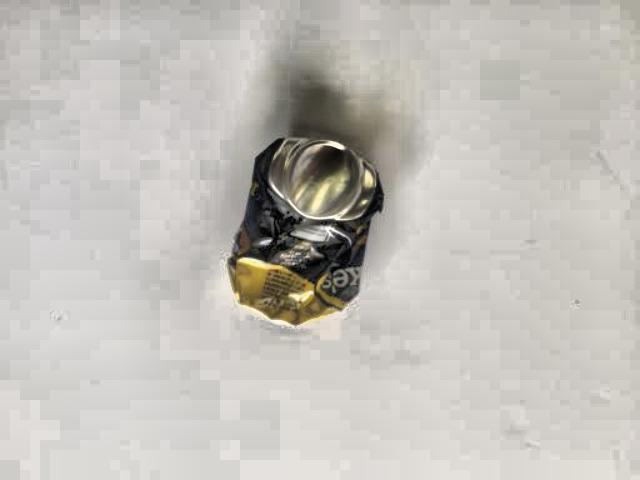Bottles: (214, 128, 391, 352)
